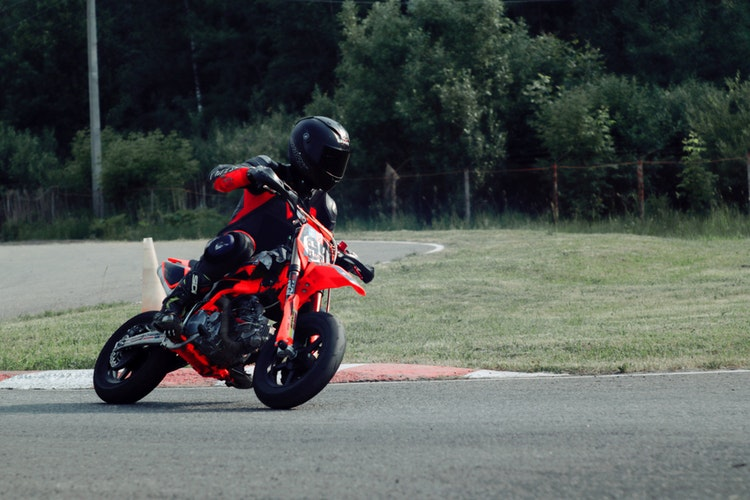helmet: (290, 117, 358, 175)
